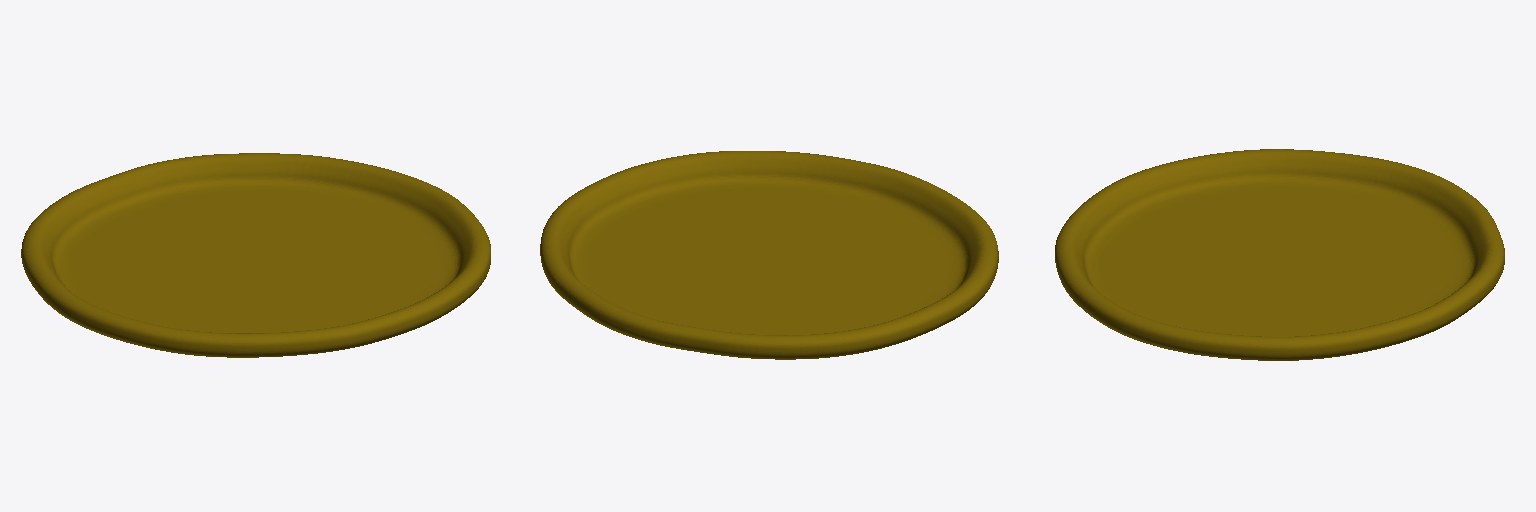
Rendered from Pizza_Empty.obj.
3 views of the same model, side by side, from view 1: azimuth 30°, elevation 25°; view 2: azimuth 150°, elevation 25°; view 3: azimuth 270°, elevation 25° (orthographic).
Visible parts, largest first — view 1: Cube; view 2: Cube; view 3: Cube.
Part boxes in pixels (x1,y1,x2,y2): Cube: (21, 153, 490, 357); Cube: (540, 151, 998, 359); Cube: (1055, 149, 1504, 360).
Size of the model in its own units: 9.17 by 0.5068 by 8.84.